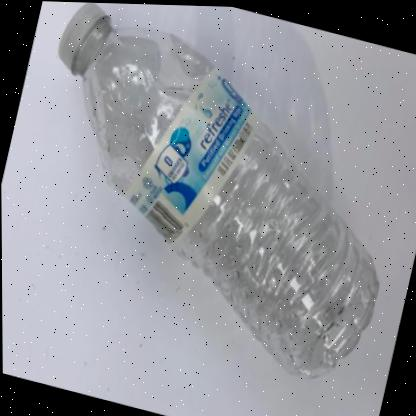Plastic: (59, 2, 379, 375)
